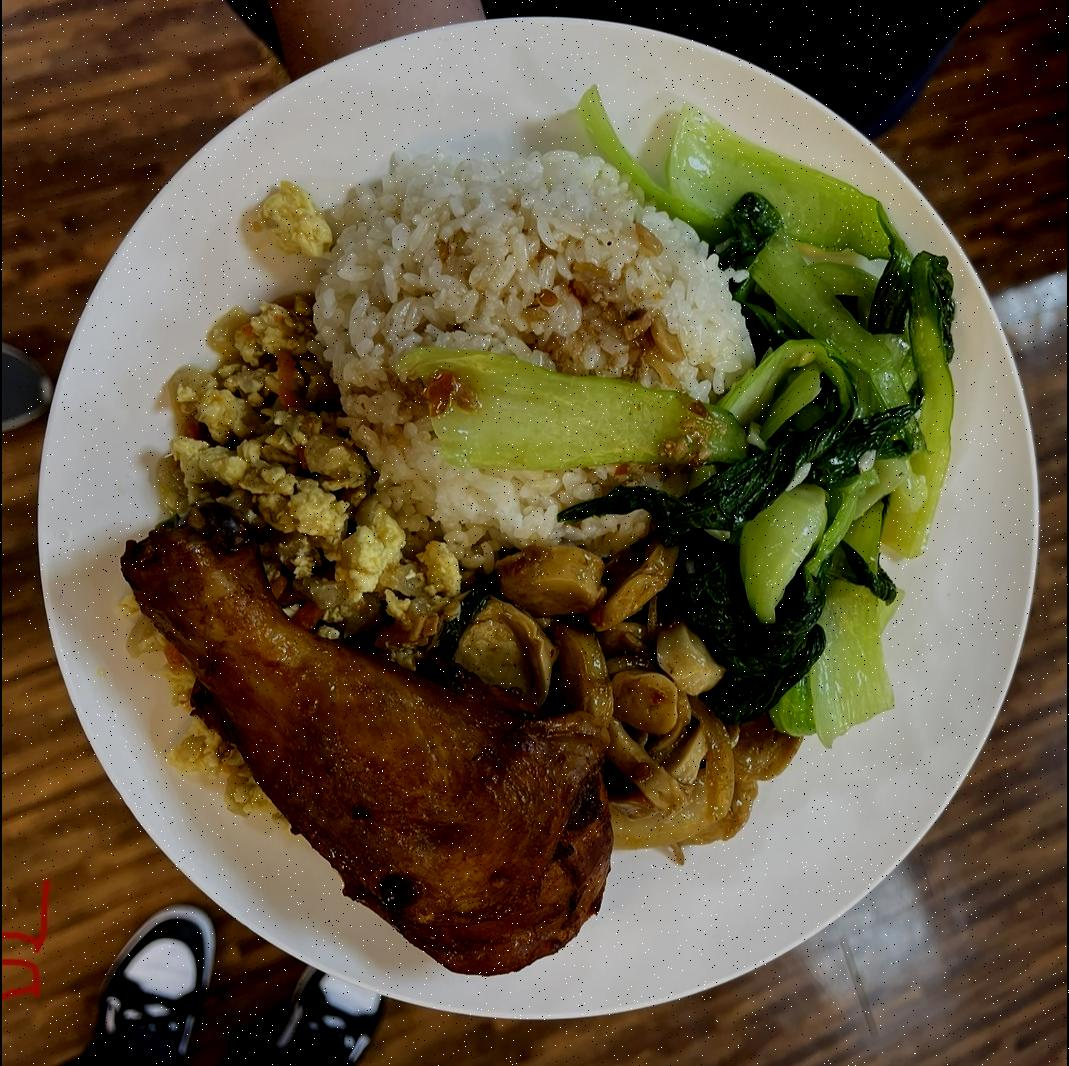big fried chicken leg: (33, 12, 1047, 1030)
big herbal chicken leg: (317, 143, 757, 556)
braised fish fillet: (152, 182, 459, 815), (685, 118, 970, 729), (467, 545, 797, 847)
braised pork: (122, 511, 624, 987)
